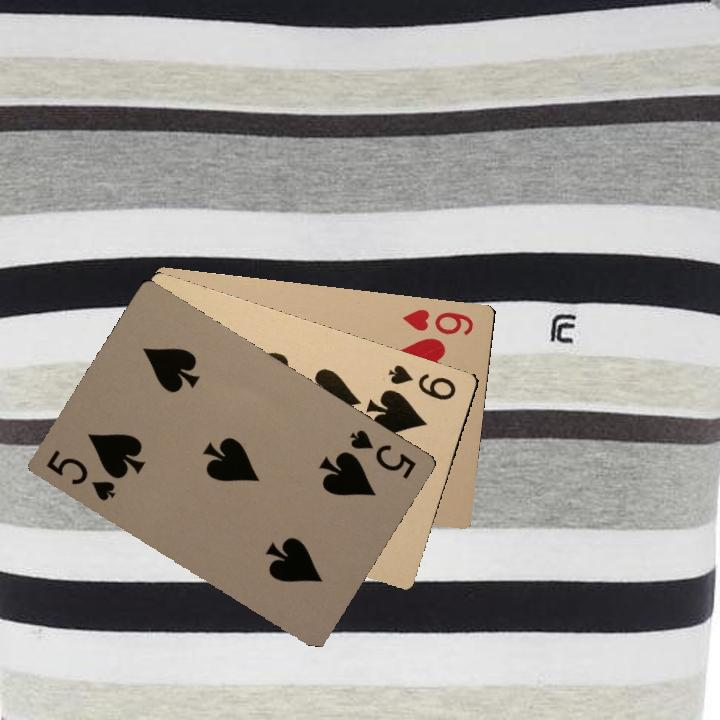5s: (42, 445, 118, 504), (346, 425, 419, 482)
6h: (400, 305, 476, 338)
9s: (383, 360, 459, 403)
